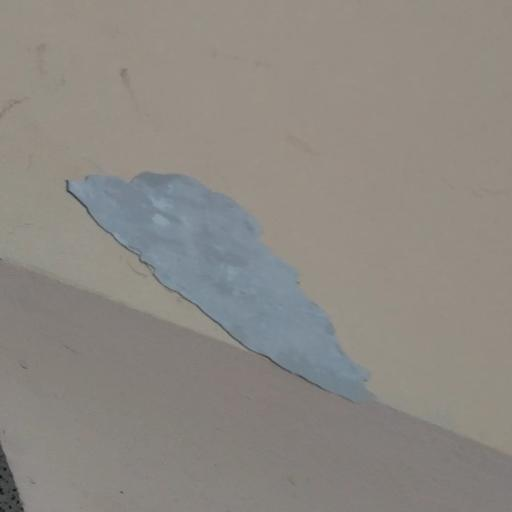peeling: (52, 149, 415, 423)
